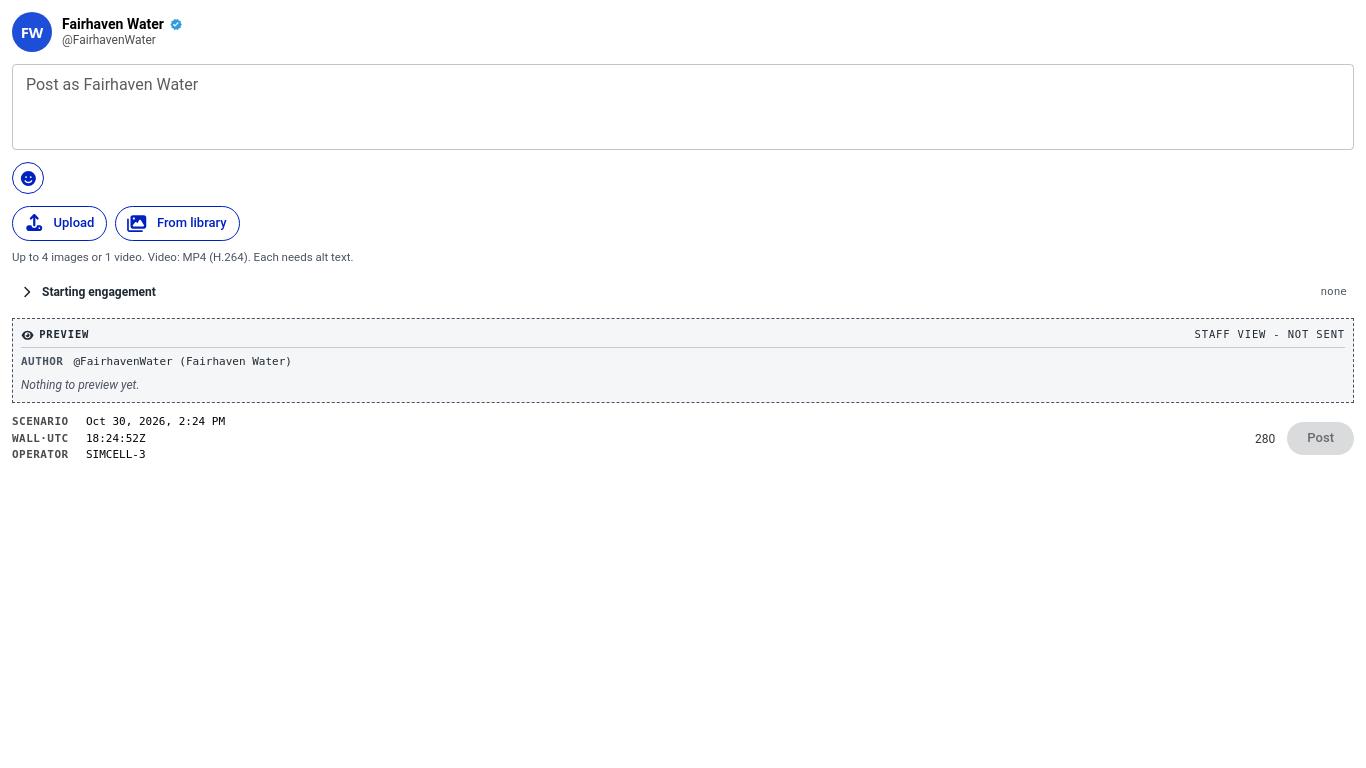
Test case: PersonaComposer (live) — a post that MAY ALREADY BE LIVE (status unknown) › an unreadable 2xx is the same: status unknown, nothing auto-sent
Type "Maybe sent." into the text box labelled "Post as Fairhaven Water" at (683, 107), box [26, 72, 1340, 142]
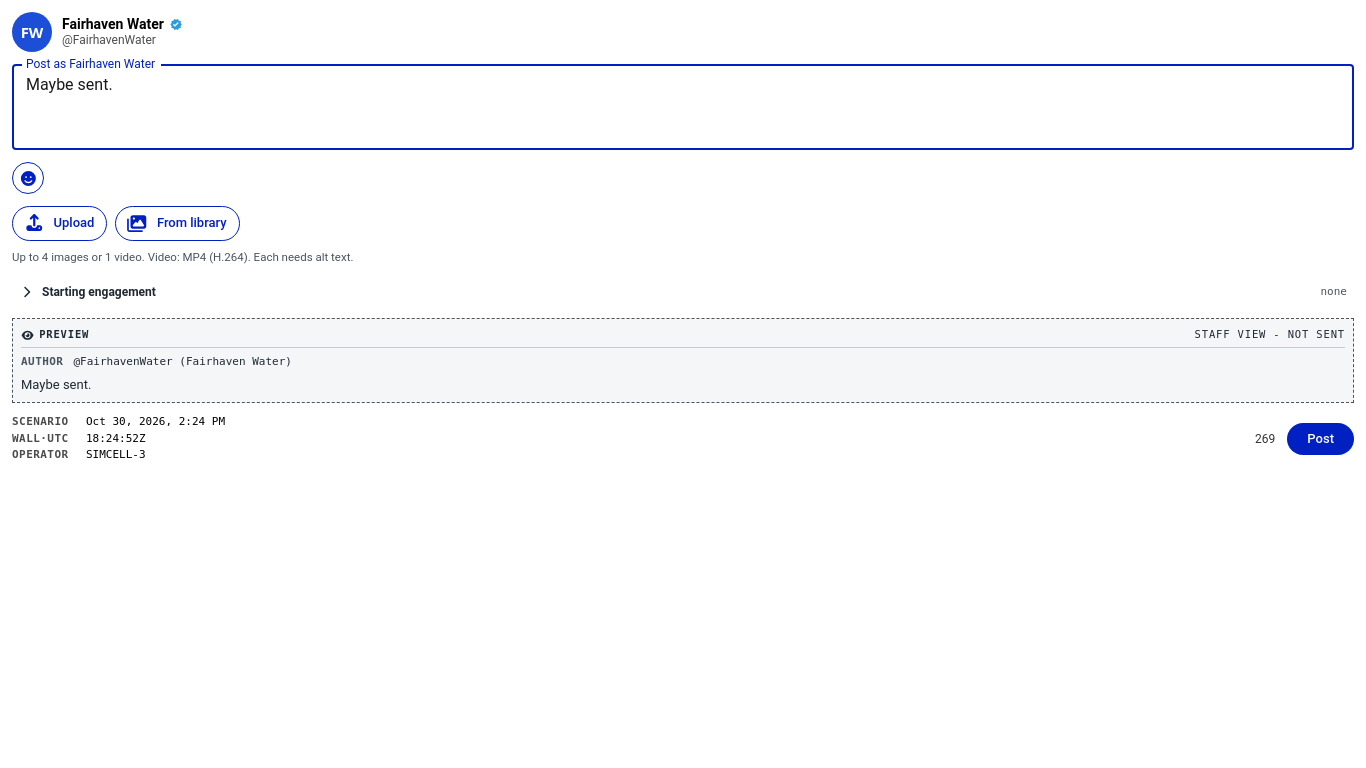
Click the button "Post" at (1321, 439), box [1287, 422, 1354, 455]
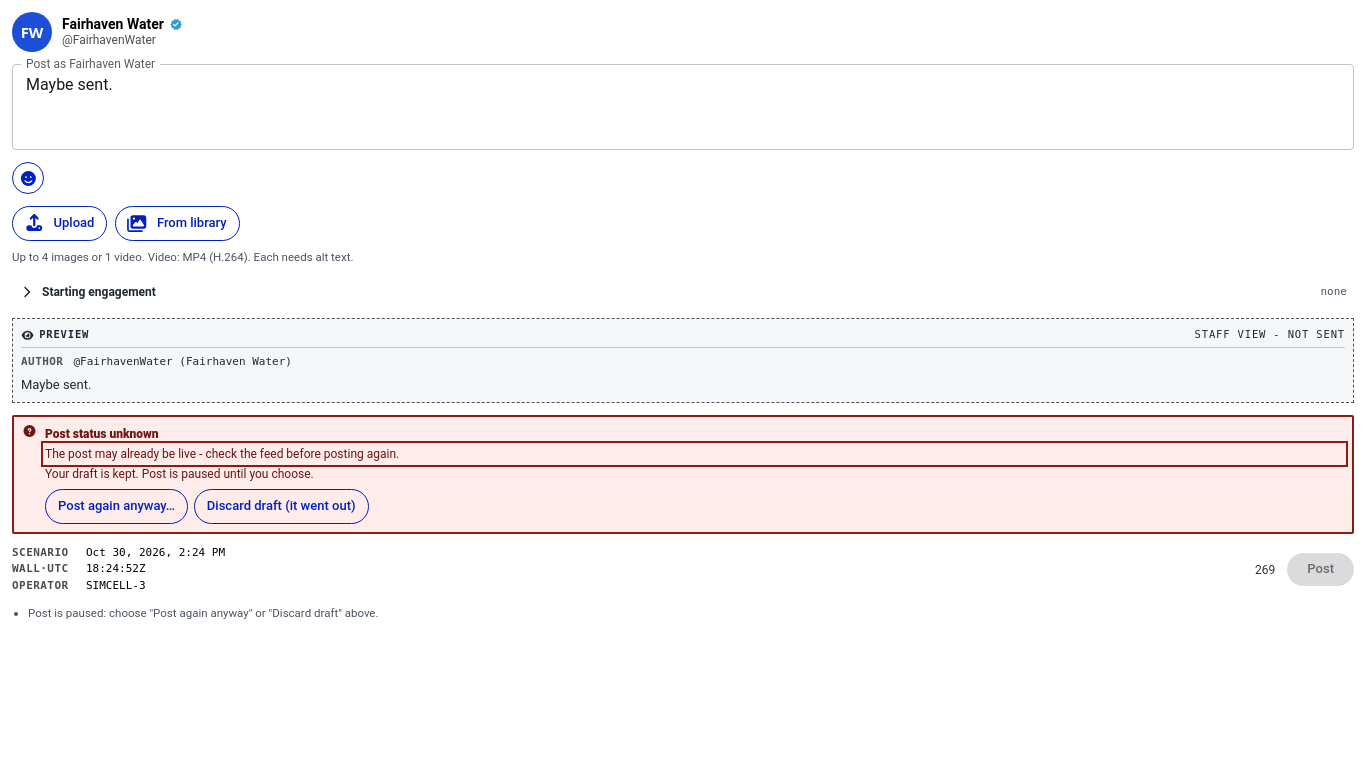
Expected: the message with test id "publish-unconfirmed" is shown, [12, 415, 1354, 534]
